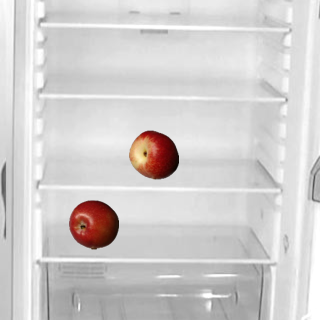Apple Braeburn: (68, 199, 118, 249)
Nectarine: (128, 129, 178, 179)
